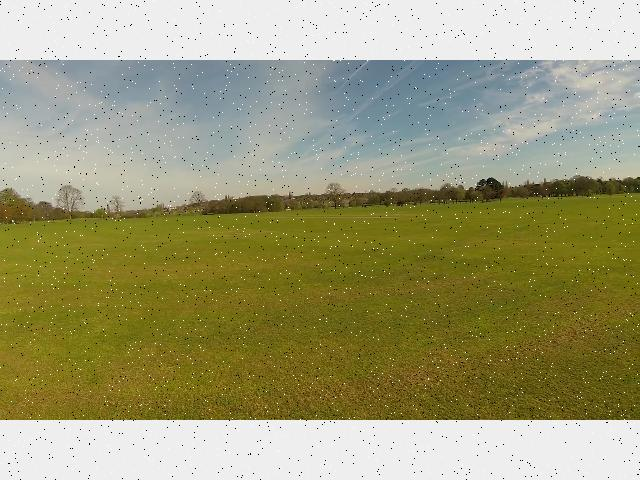Anti-Drone: (324, 187, 336, 194)
